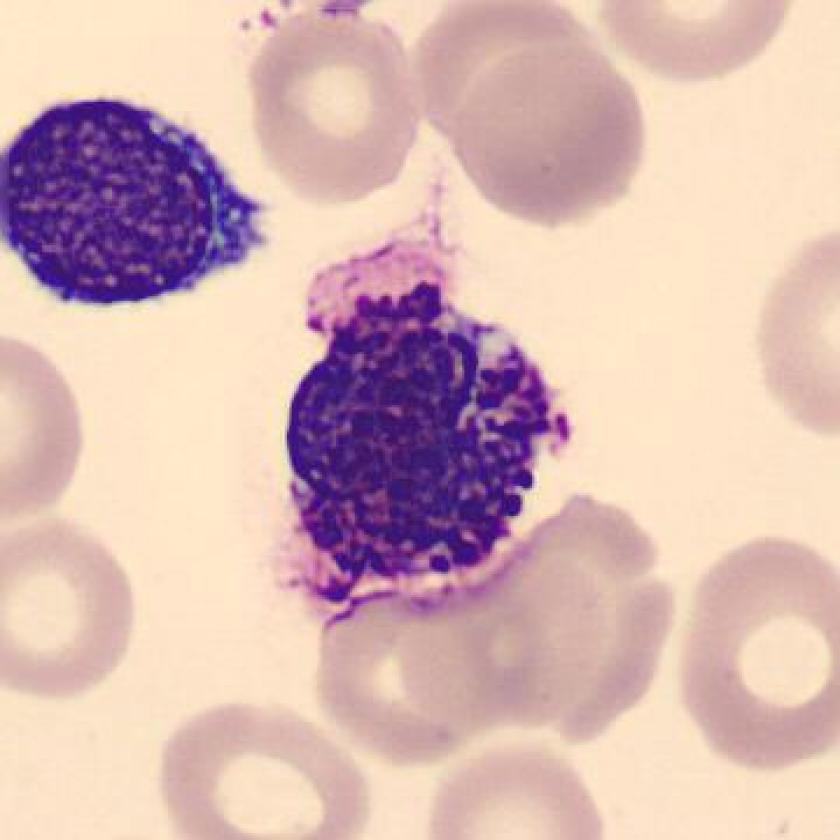basophil: (267, 295, 561, 598), (1, 85, 251, 314)
